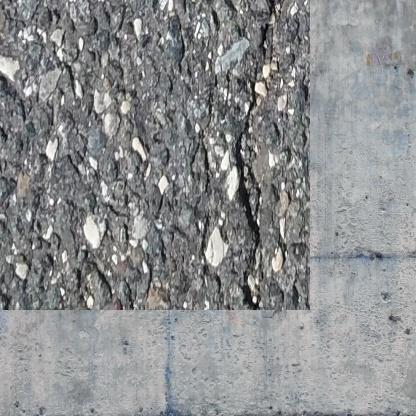Cracks: (216, 67, 246, 287), (236, 0, 270, 57)
